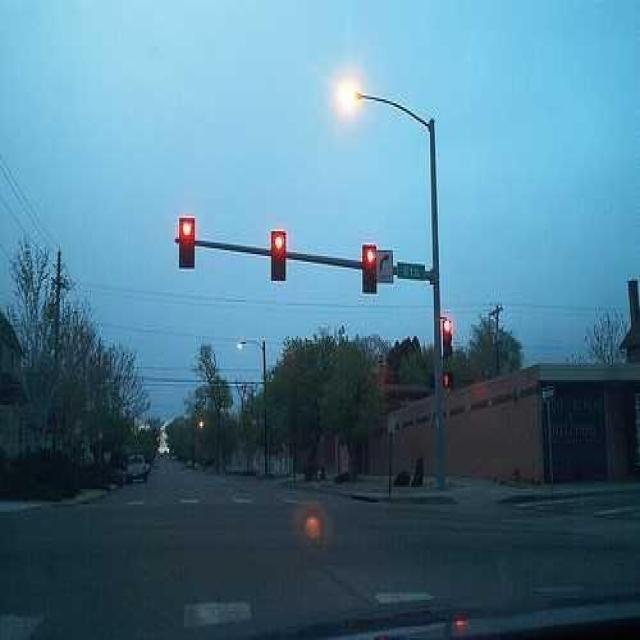Traffic Light -Red-: (177, 214, 196, 269), (270, 227, 288, 283), (438, 312, 457, 363), (362, 247, 377, 294)
